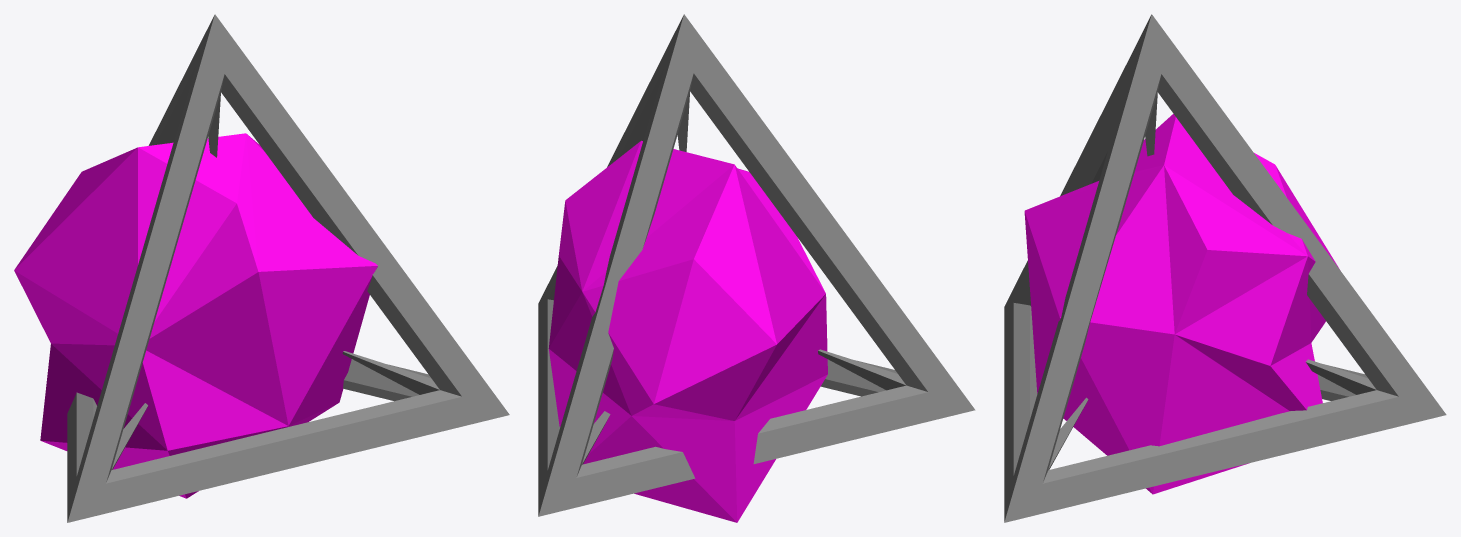
File: item_stash_grenade.glb
3 renders of one model, left to right at view 1: azimuth 30°, elevation 25°; view 2: azimuth 150°, elevation 25°; view 3: azimuth 270°, elevation 25°, orthographic.
Visible parts, largest first — view 1: UraniumBlob_Small, TriGrenade; view 2: UraniumBlob_Small, TriGrenade; view 3: UraniumBlob_Small, TriGrenade.
Boxes of the visible parts, x1,y1,x2,y2 form: UraniumBlob_Small: (14,133,377,498); TriGrenade: (67,14,509,522); UraniumBlob_Small: (548,140,827,522); TriGrenade: (538,14,975,516); UraniumBlob_Small: (1024,114,1339,494); TriGrenade: (1004,14,1446,522).
Bounding box in the file's own units: 0.2276 × 0.2317 × 0.1971.
